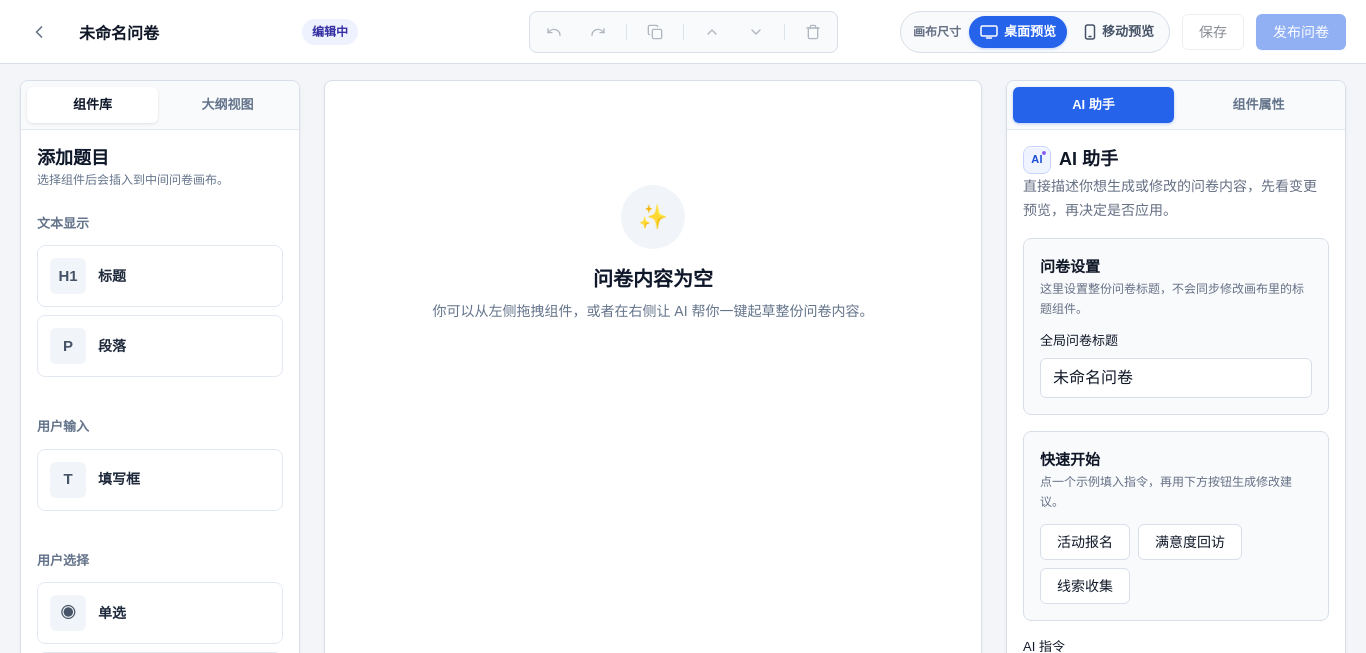
Test: EditorShell › keeps the empty component properties panel from forcing an internal scrollbar
This screenshot has width=1366, height=653.
Click the tab "组件属性" at coordinates (1258, 105), box [1178,87,1339,122]
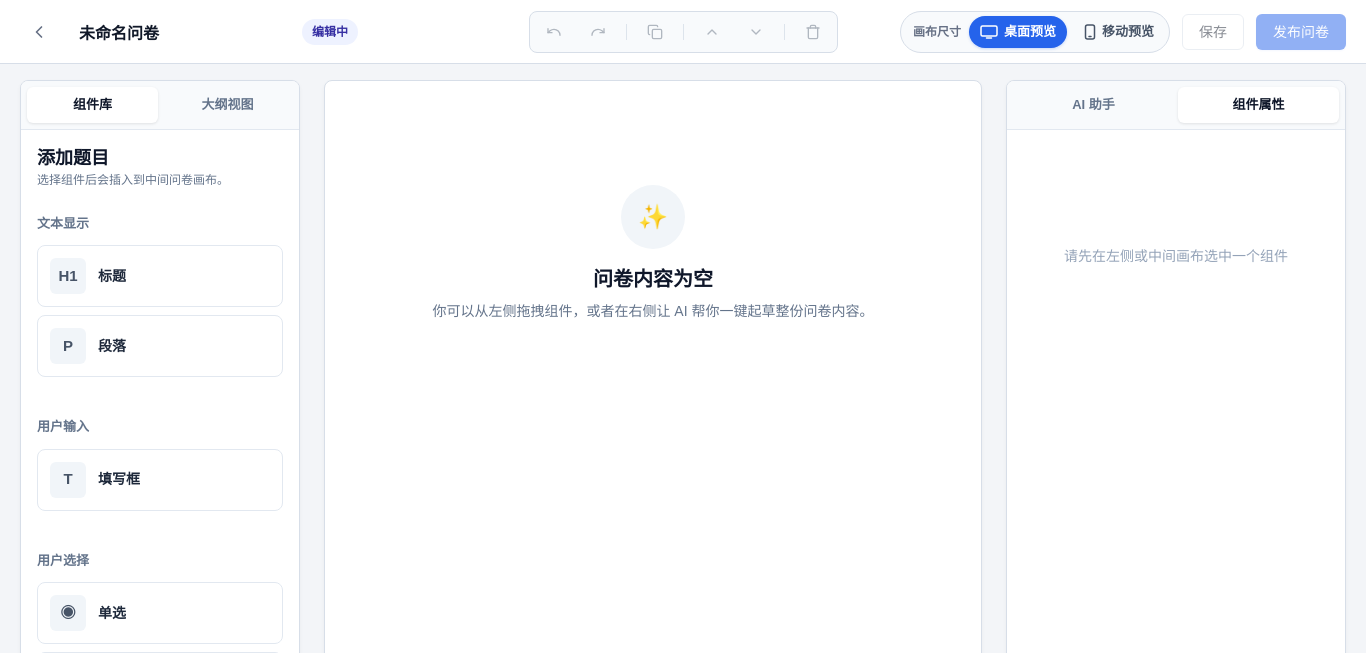
Now the element with test id "inspector-empty-state" reads "请先在左侧或中间画布选中一个组件", box [1064,248,1288,264]
